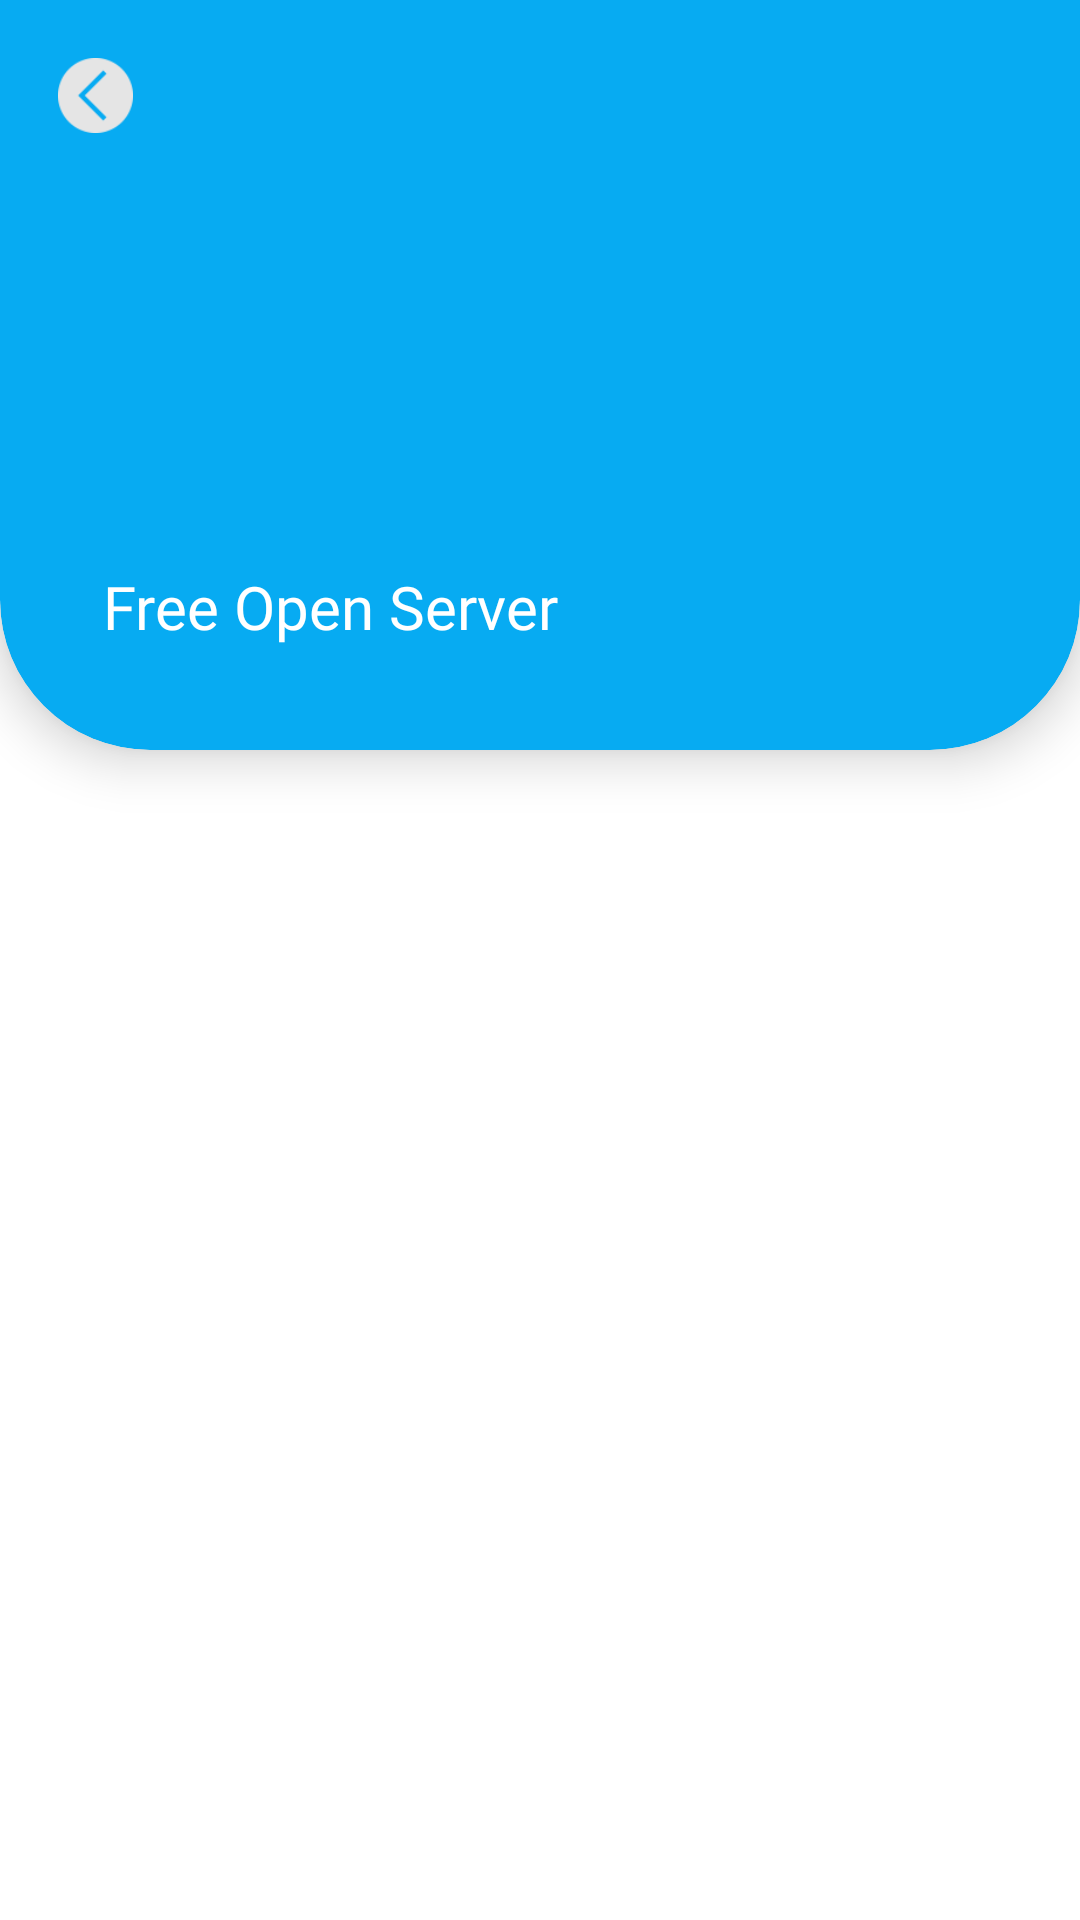

Where to tap for icons on this 1080*1920 app screen, as point (x, y):
backa: point (95, 95)
